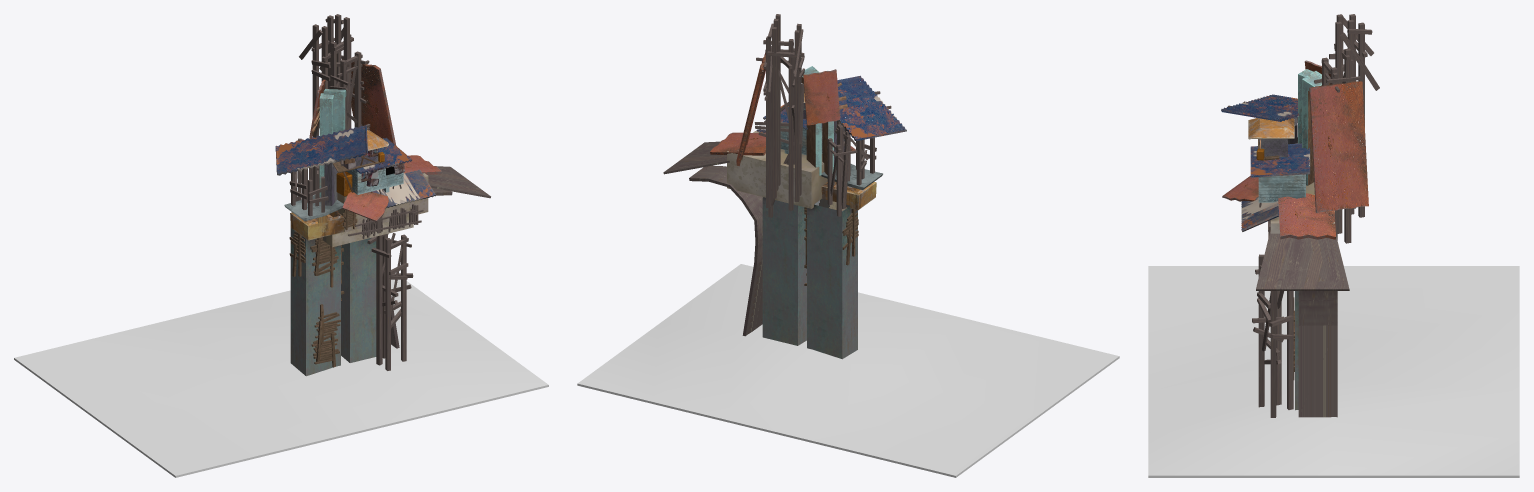
File: allhouse.fbx
3 views of the same model, side by side, from view 1: azimuth 30°, elevation 25°; view 2: azimuth 150°, elevation 25°; view 3: azimuth 270°, elevation 25° (orthographic). The views are drawn at different scales.
Visible parts, largest first — view 1: Plane002, Box001, Box166, Box185, Plane026, Plane034, Plane013, Box005, Plane005, Plane007, Box111, Box176 (+9 smaller); view 2: Plane002, Box001, Box166, Box004, Plane026, Cylinder001, Box176, Plane025, Plane005, Box055, Box053, Plane033 (+5 smaller); view 3: Plane002, Plane034, Cylinder001, Plane005, Box185, Plane033, Plane024, Plane026, Box006, Box009, Plane022, Plane013 (+8 smaller).
Part boxes in pixels (<box>): Plane002: <box>14,269,548,477</box>; Box001: <box>290,227,340,376</box>; Box166: <box>341,237,376,362</box>; Box185: <box>367,233,411,370</box>; Plane026: <box>275,125,367,175</box>; Plane034: <box>341,59,396,145</box>; Plane013: <box>372,169,436,207</box>; Box005: <box>290,211,344,240</box>; Plane005: <box>427,166,490,198</box>; Plane007: <box>342,192,388,221</box>; Box111: <box>348,204,423,238</box>; Box176: <box>289,138,319,212</box>; Plane002: <box>577,264,1119,477</box>; Box001: <box>807,199,857,359</box>; Box166: <box>762,197,806,345</box>; Box004: <box>727,131,827,208</box>; Plane026: <box>837,75,906,140</box>; Cylinder001: <box>689,165,762,336</box>; Box176: <box>827,120,869,216</box>; Plane025: <box>803,69,840,125</box>; Plane005: <box>663,141,729,174</box>; Box055: <box>788,39,793,210</box>; Box053: <box>794,30,799,201</box>; Plane033: <box>710,132,765,155</box>; Plane002: <box>1148,266,1519,477</box>; Plane034: <box>1309,81,1368,212</box>; Cylinder001: <box>1298,291,1337,417</box>; Plane005: <box>1256,230,1349,290</box>; Box185: <box>1255,254,1293,417</box>; Plane033: <box>1278,193,1335,239</box>; Plane024: <box>1250,143,1310,177</box>; Plane026: <box>1221,94,1299,121</box>; Box006: <box>1258,174,1305,202</box>; Box009: <box>1302,71,1330,185</box>; Plane022: <box>1248,118,1294,139</box>; Plane013: <box>1241,197,1279,231</box>.
Size of the model in its own units: 1814923 by 1565692 by 1358757.
